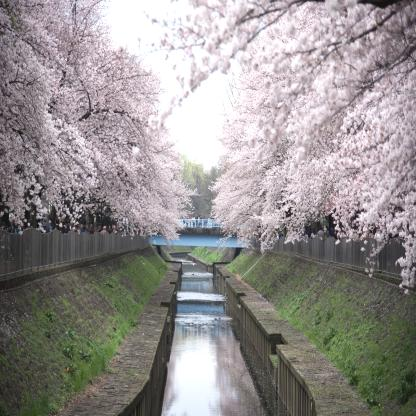Someiyoshino: (216, 2, 415, 240), (0, 6, 195, 224)
